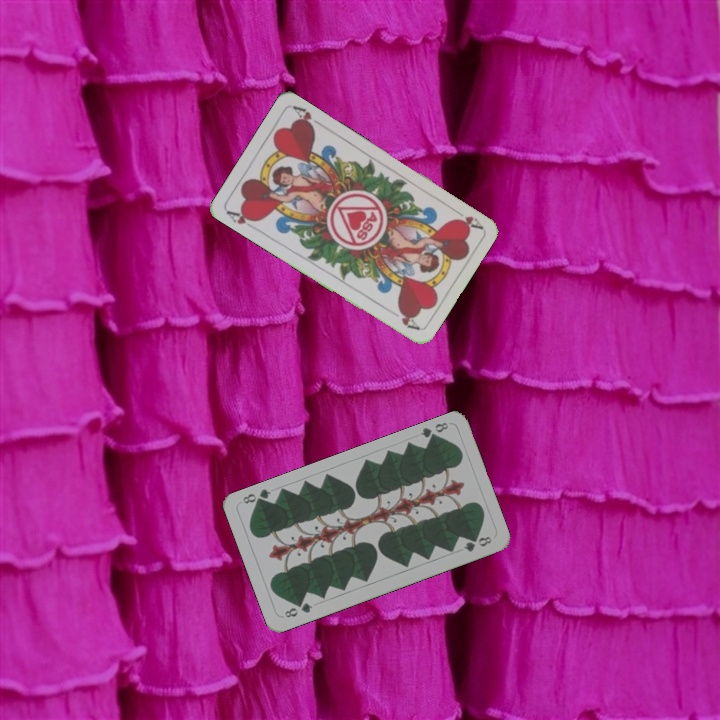G8: (416, 418, 451, 444), (280, 599, 315, 620)
HA: (223, 206, 261, 233), (448, 204, 484, 232)
